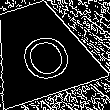O_N: (7, 19, 72, 81)
